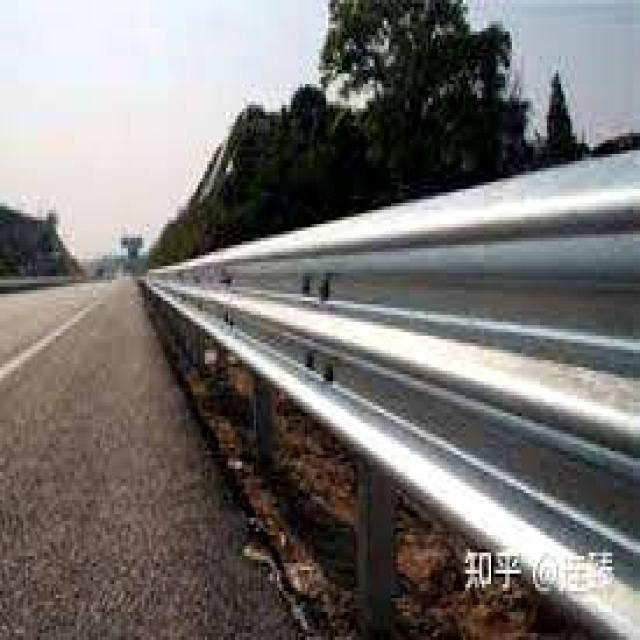Guard rail: (146, 152, 640, 636)
